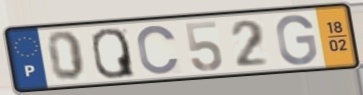0: (45, 28, 88, 84)
2: (230, 18, 271, 69)
5: (182, 19, 224, 73)
C: (135, 23, 182, 76)
G: (274, 12, 320, 67)
Q: (89, 26, 138, 81)
